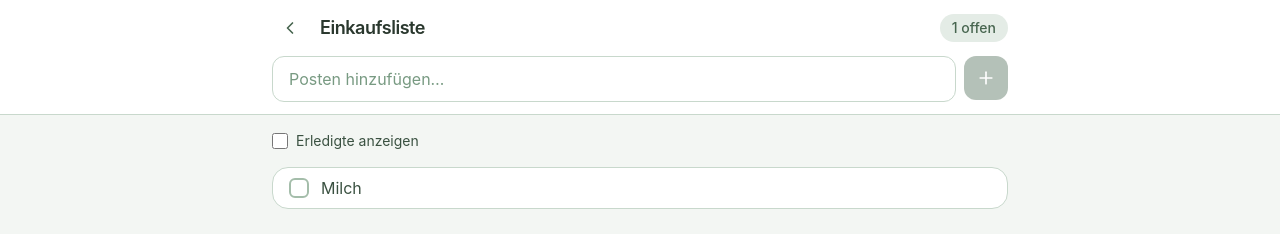
Scenario: Einkaufsliste-Detailseite › clicking the item text opens inline edit, Enter saves the new name
Click the button "Milch" at (341, 188), box [321, 176, 991, 200]
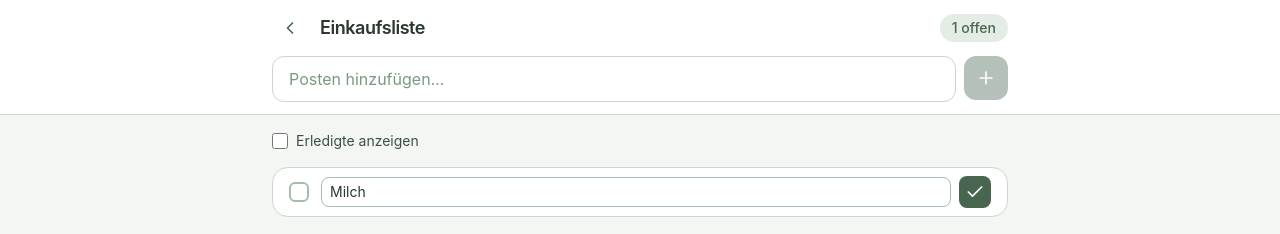
Replace the text in the 2nd field with "Hafermilch" at (636, 192), box [321, 177, 951, 207]
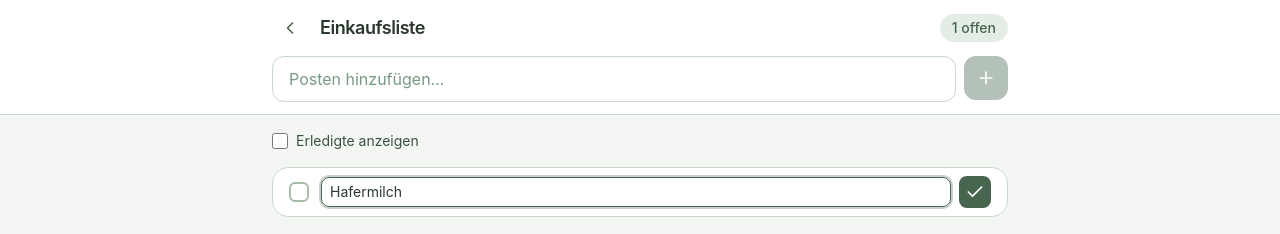
Press Enter
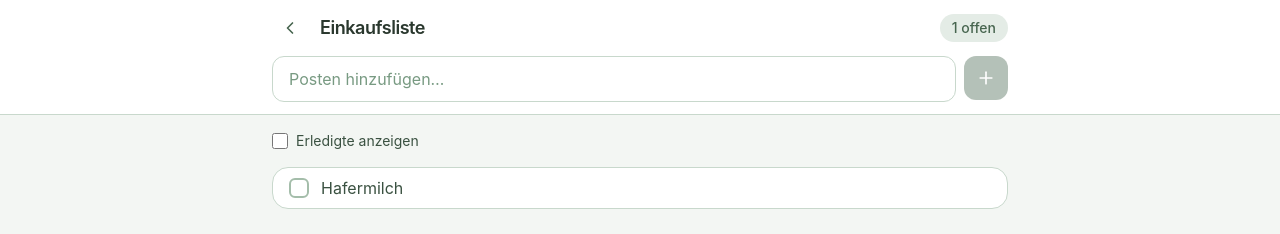
Check: the button "Hafermilch" is shown, box [321, 176, 991, 200]
